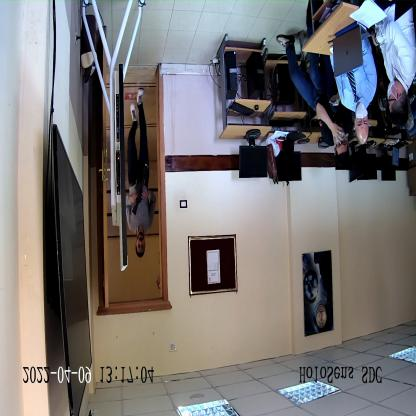handgun: (131, 164, 148, 216)
